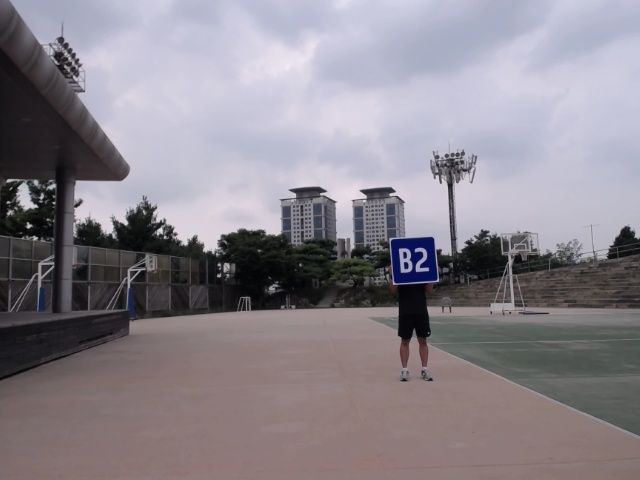delivery_b2: (389, 237, 440, 286)
